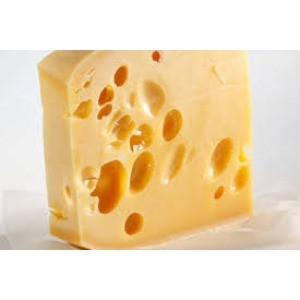cheese_brain food: (53, 74, 230, 203)
